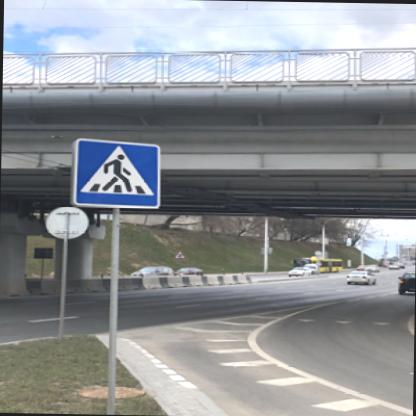crosswalk: (70, 136, 160, 207)
